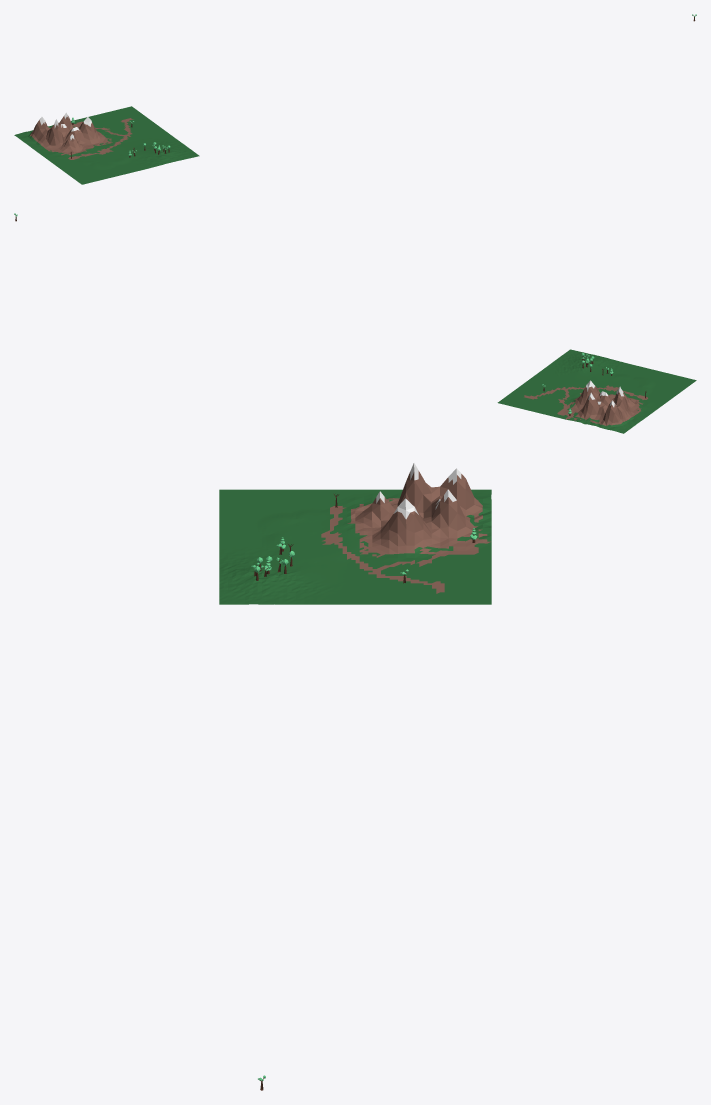
File: MainScene.gltf
3 renders of one model, top to bottom at view 1: azimuth 30°, elevation 25°; view 2: azimuth 150°, elevation 25°; view 3: azimuth 270°, elevation 25°, orthographic. The views are drawn at different scales.
Parts seen in each view (by area): view 1: Ground; view 2: Ground; view 3: Ground.
Boxes of the visible parts, x1,y1,x2,y2 form: Ground: (14, 106, 199, 184); Ground: (497, 349, 696, 433); Ground: (219, 463, 491, 604).
Size of the model in its own units: 90.72 by 3.48 by 17.1.
